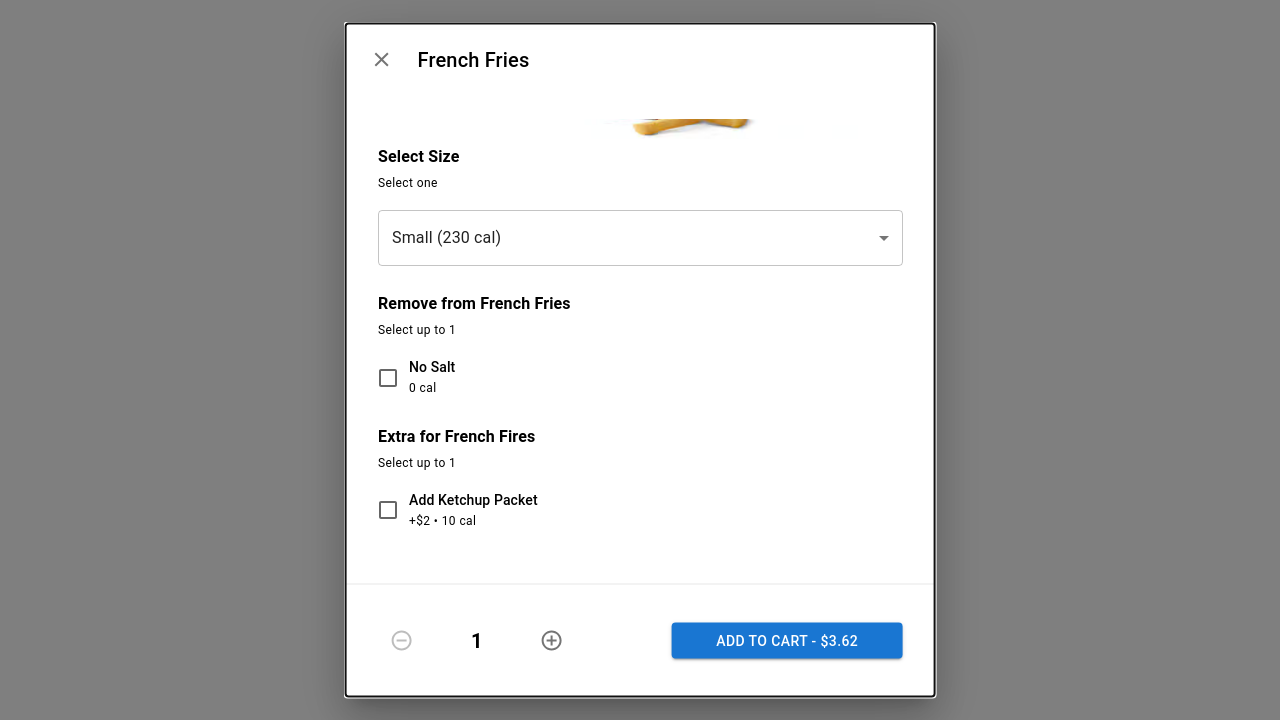
<VisitingFood /> (opened) › Options corresponded to capacity › Add, remove
(page scrolled)
Click the heading "Add Ketchup Packet" at (473, 501), box x1=409 y1=490 x2=537 y2=512
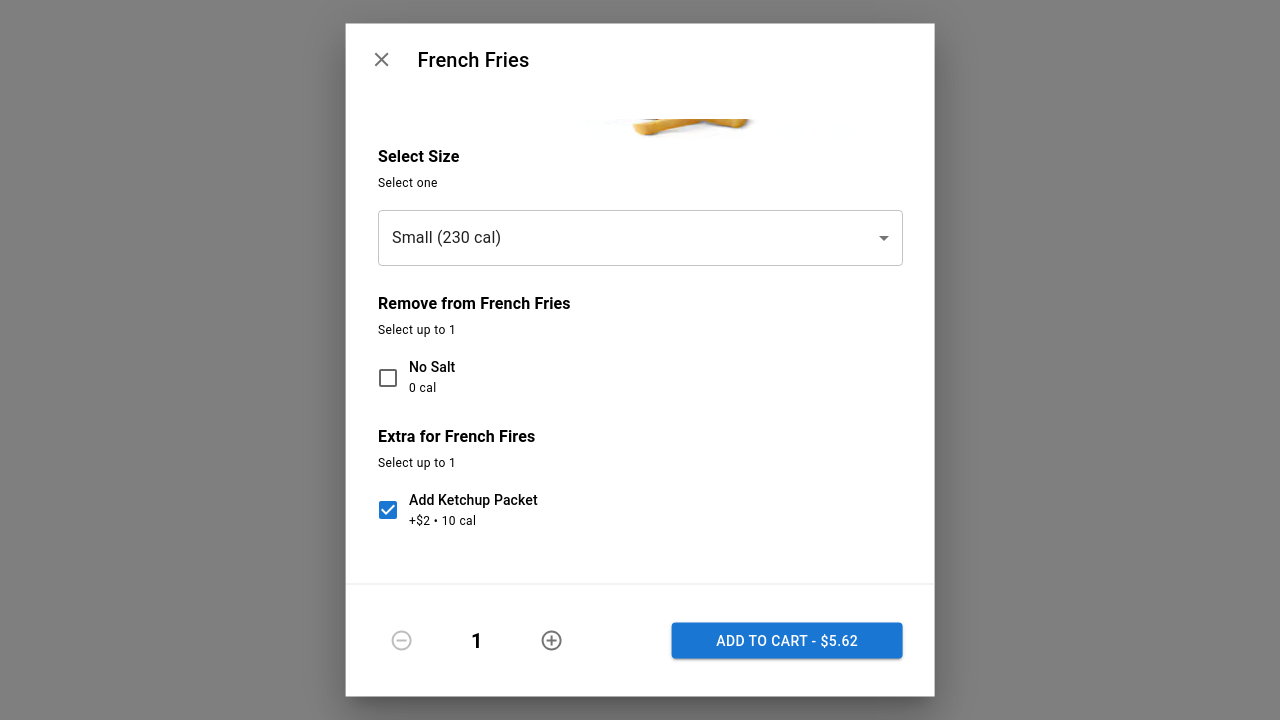
Result: the button "Add to Cart - $5.62" is shown at x1=672 y1=622 x2=902 y2=659
Click the heading "Add Ketchup Packet" at (473, 501), box x1=409 y1=490 x2=537 y2=512
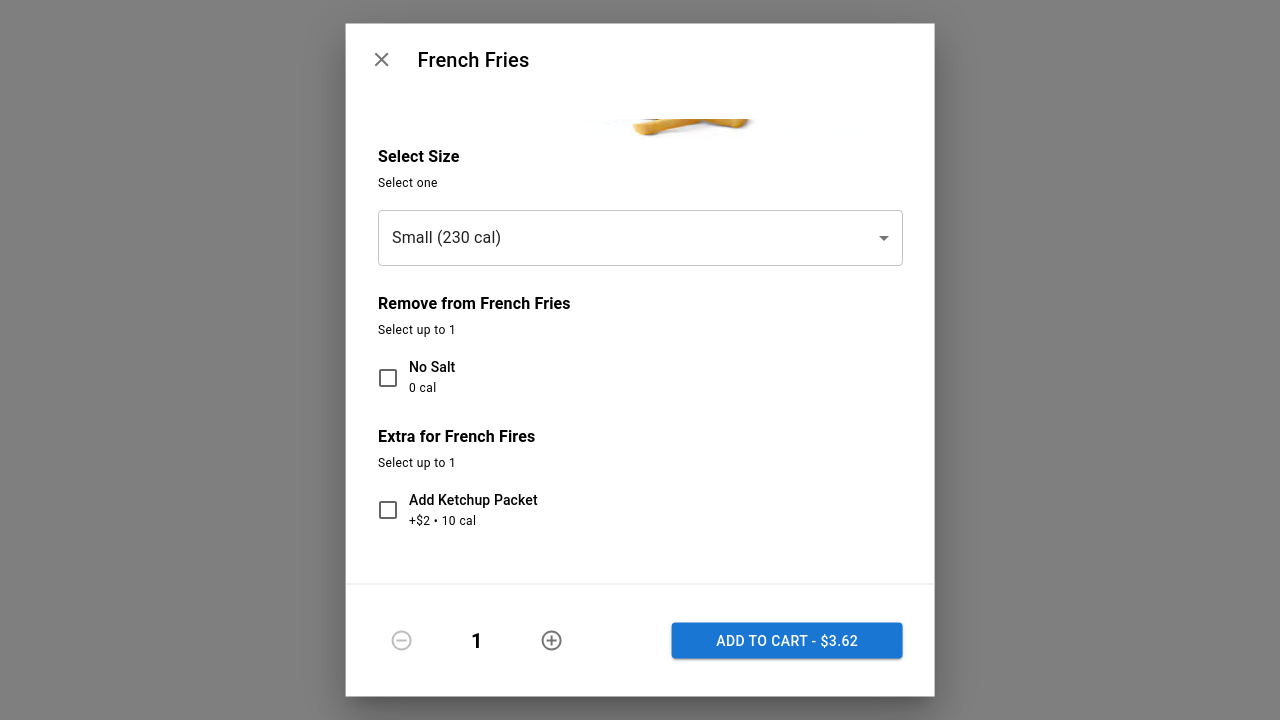
Result: the button "Add to Cart - $3.62" is shown at x1=672 y1=622 x2=902 y2=659
